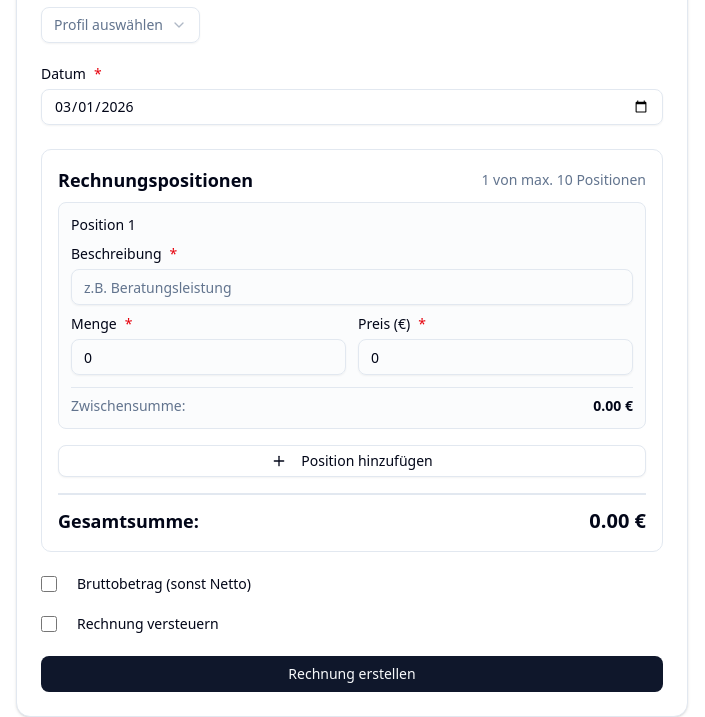
Test: InvoiceForm › zeigt Steuersatz-Feld nur wenn versteuert aktiviert
The image size is (705, 717).
(page scrolled)
Expected: the field labelled "Steuersatz" is not shown
// Aktiviere "Rechnung versteuern"
Click the checkbox labelled "Rechnung versteuern" at (49, 624), box [41, 616, 57, 632]
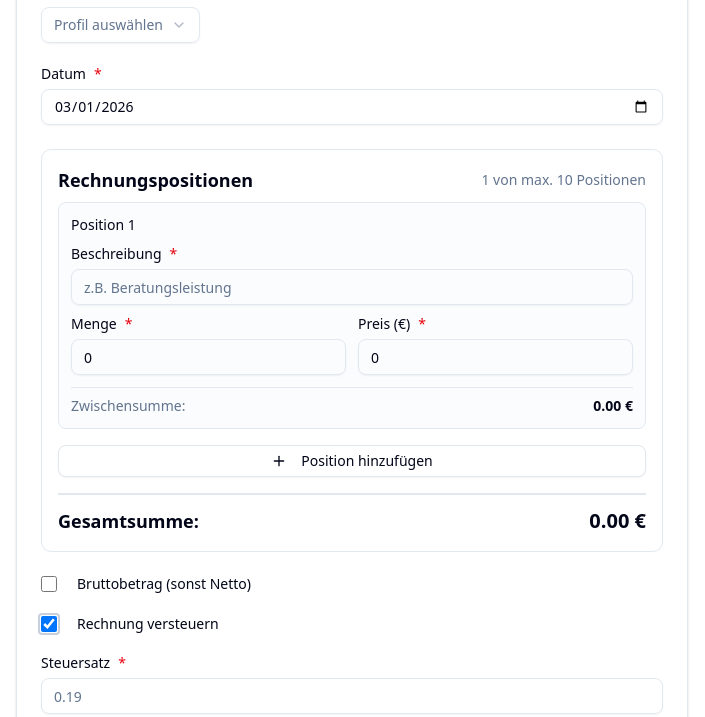
Expected: the number field labelled "Steuersatz *" is shown, [41, 678, 663, 714]
